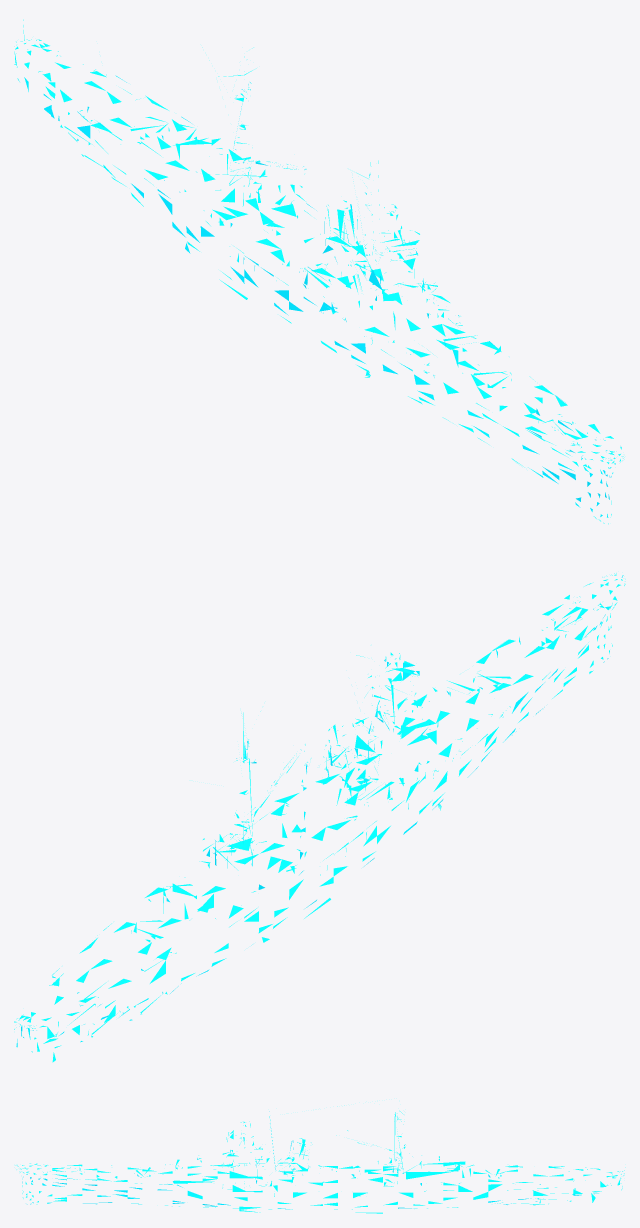
Rendered from Omono.glb.
3 views of the same model, one above another, from view 1: azimuth 30°, elevation 25°; view 2: azimuth 150°, elevation 25°; view 3: azimuth 270°, elevation 25° (orthographic). The views are drawn at different scales.
Bounding box in the file's own units: 1.26 × 2.69 × 13.17.
